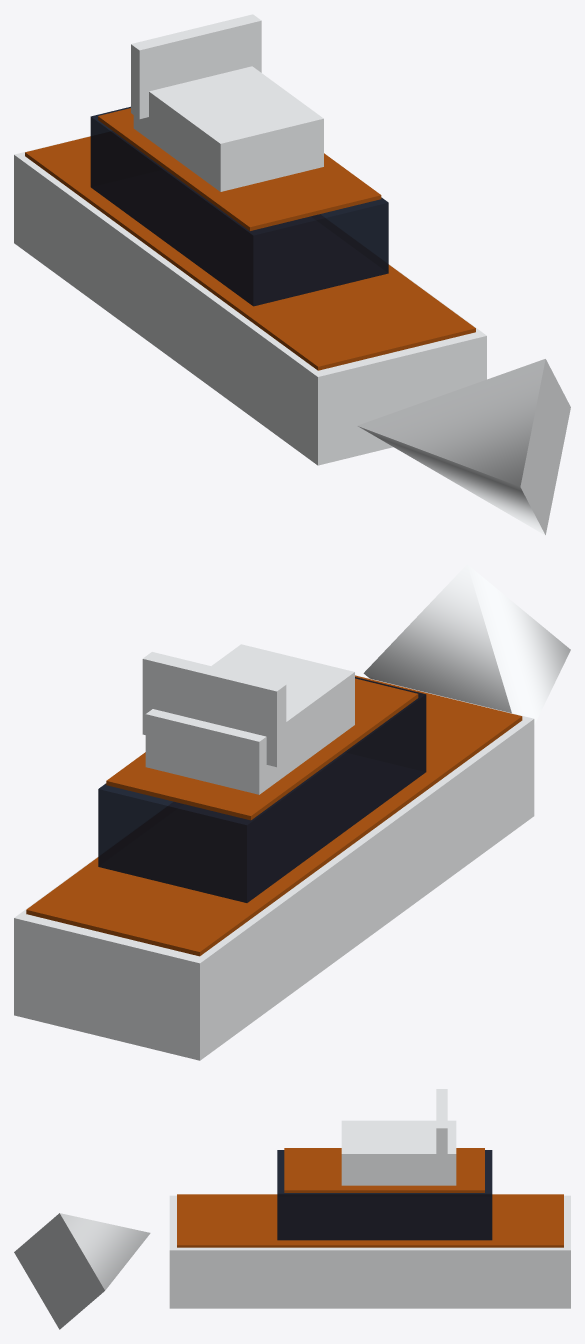
The model's file is yacht.glb.
3 views of the same model, one above another, from view 1: azimuth 30°, elevation 25°; view 2: azimuth 150°, elevation 25°; view 3: azimuth 270°, elevation 25° (orthographic). The views are drawn at different scales.
Size of the model in its own units: 0.2795 by 0.4001 by 1.
